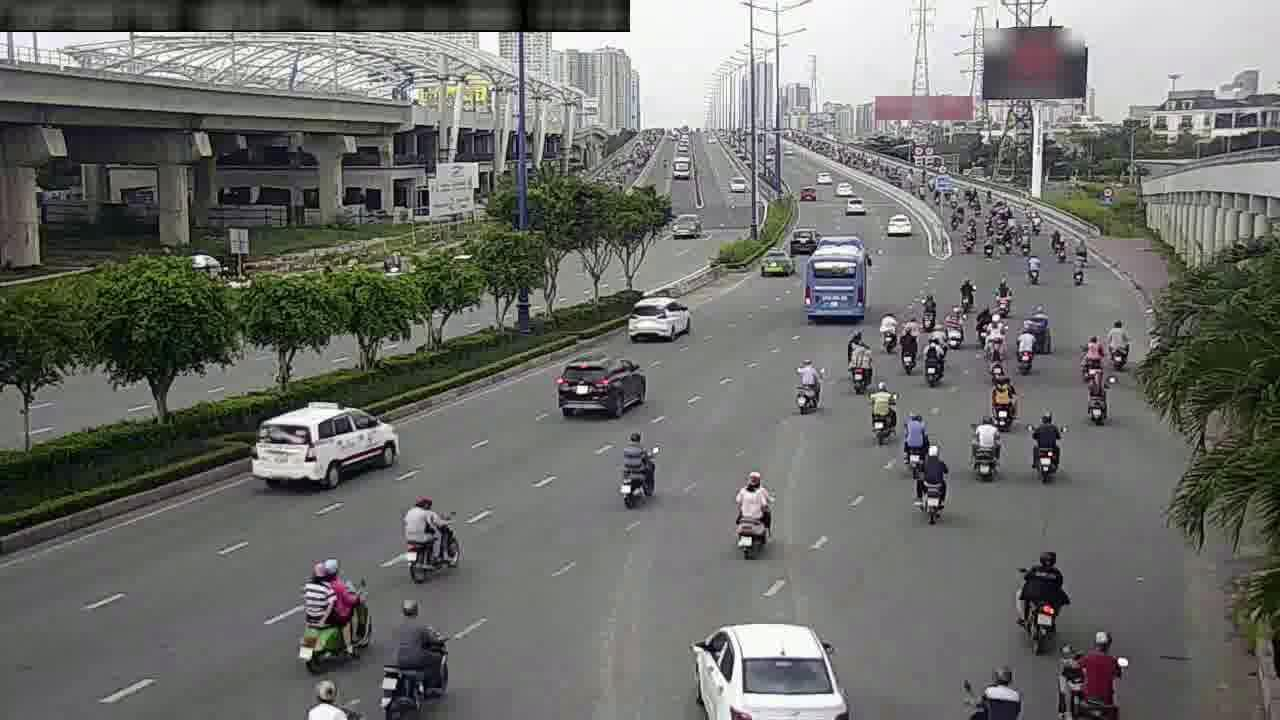car: (702, 609, 844, 715), (253, 399, 398, 484), (558, 352, 646, 417), (627, 291, 694, 343), (755, 244, 793, 278), (788, 224, 817, 249)
motorbike: (298, 559, 375, 671), (379, 605, 454, 706), (1058, 616, 1125, 713), (399, 491, 462, 581), (1014, 542, 1066, 647), (726, 471, 776, 561), (611, 424, 661, 510), (908, 439, 953, 526), (964, 652, 1025, 716), (1023, 408, 1064, 480), (966, 411, 1003, 481), (862, 377, 899, 445), (788, 350, 825, 416), (894, 405, 929, 467), (1078, 365, 1113, 426), (842, 334, 874, 392), (985, 368, 1017, 426), (1100, 320, 1132, 371), (893, 320, 921, 374), (919, 329, 946, 384), (1010, 321, 1036, 373), (1077, 330, 1105, 378), (875, 303, 902, 351), (913, 284, 939, 332), (1025, 302, 1052, 347), (981, 332, 1007, 377), (942, 302, 967, 347), (953, 272, 977, 312), (972, 301, 993, 344), (991, 275, 1014, 314), (1064, 253, 1088, 290), (1021, 248, 1043, 285), (1048, 226, 1066, 259)
passenger_car: (805, 235, 866, 316)
